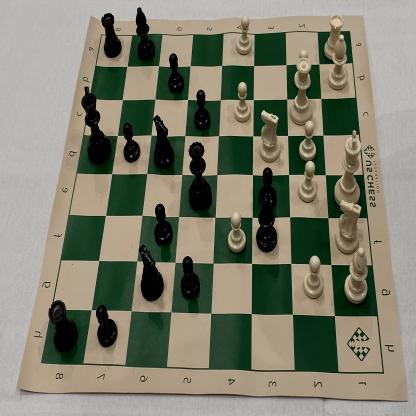black-bishop: (254, 197, 278, 255), (134, 5, 156, 62)
black-king: (79, 85, 112, 166)
black-knight: (136, 240, 165, 304), (152, 112, 176, 170)
black-pawn: (95, 303, 121, 349), (180, 255, 202, 300), (153, 202, 173, 247), (121, 122, 142, 164), (192, 88, 212, 130), (258, 166, 278, 208), (166, 52, 184, 94)
black-queen: (186, 141, 213, 213)
black-rook: (47, 298, 80, 354), (100, 11, 122, 59)
white-bishop: (325, 36, 353, 91), (343, 247, 370, 304)
white-king: (334, 128, 364, 208)
white-knight: (333, 198, 364, 255), (256, 109, 282, 163)
white-pawn: (302, 254, 326, 301), (297, 161, 320, 204), (232, 81, 252, 126), (228, 210, 248, 255), (298, 119, 318, 162), (235, 13, 254, 58), (293, 48, 312, 92)
white-queen: (288, 58, 313, 126)
white-rook: (321, 9, 348, 63)
